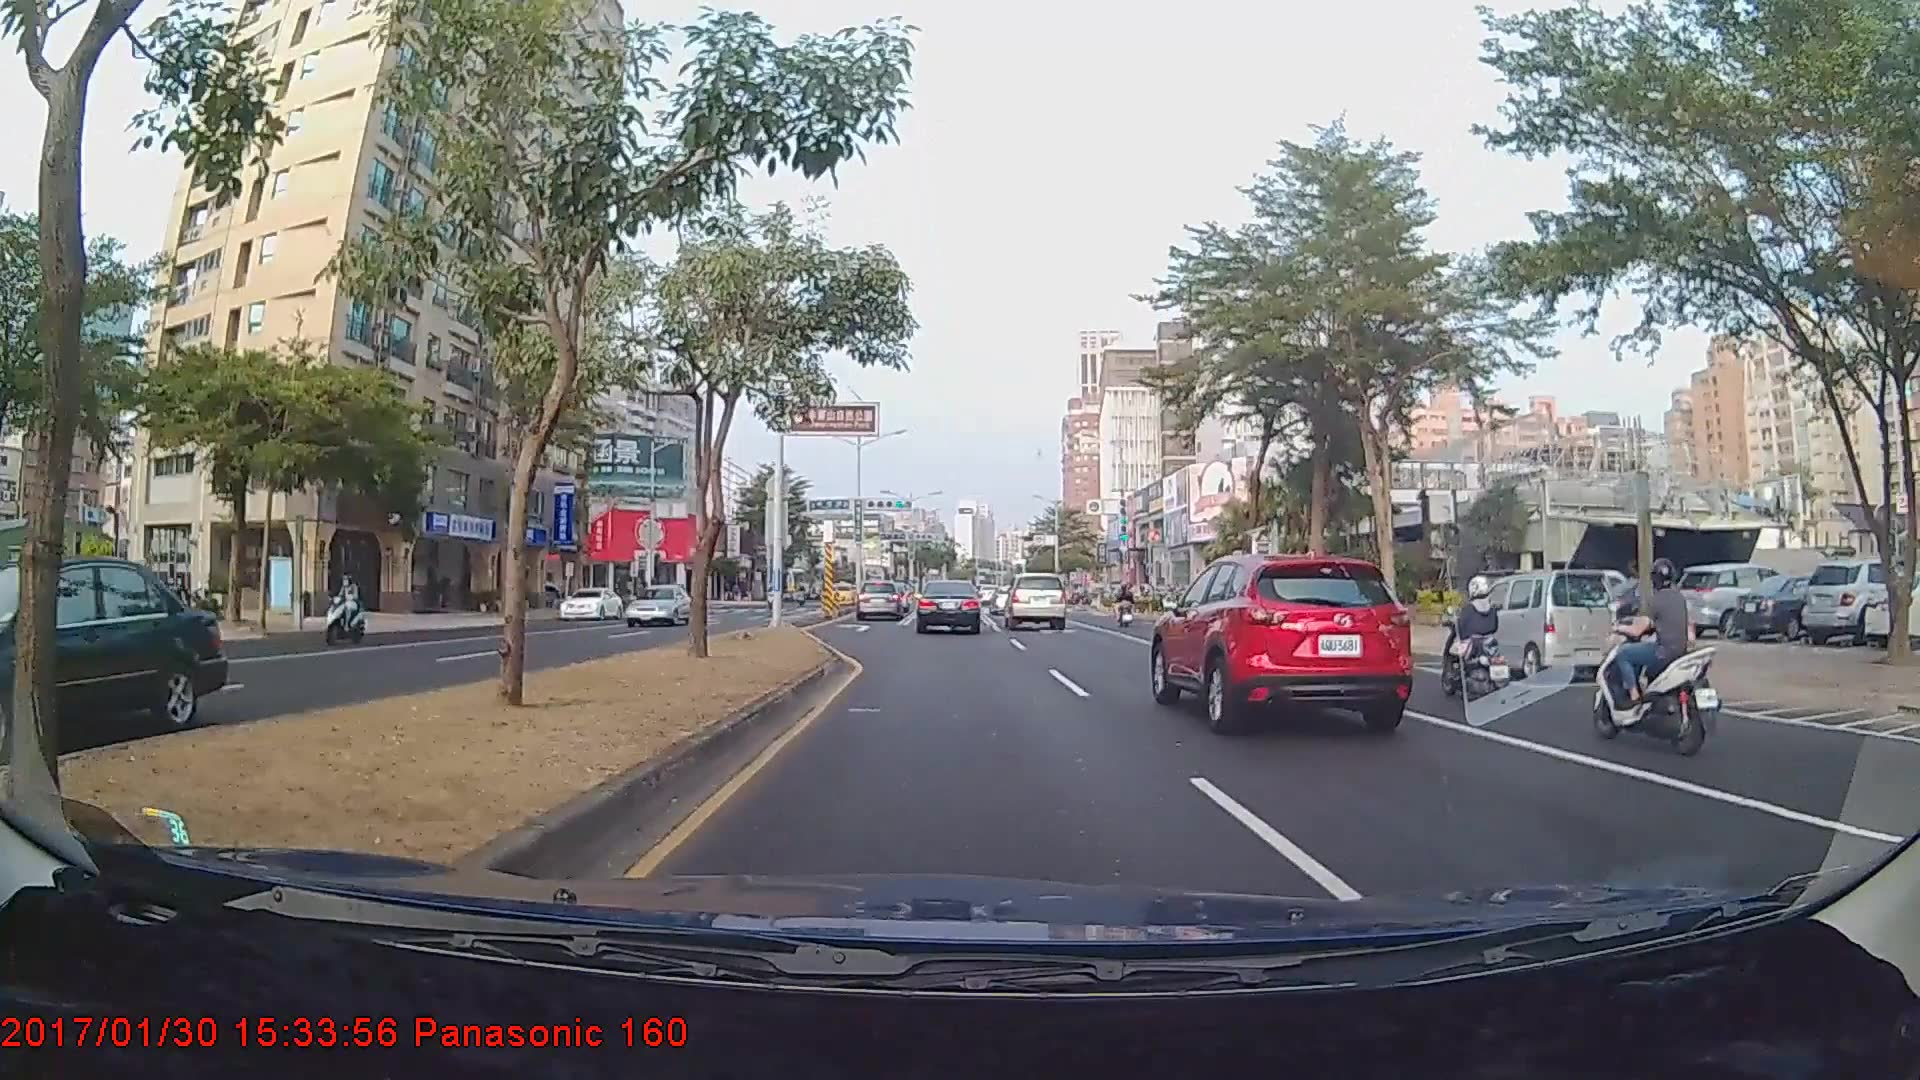rider: (1582, 554, 1724, 753), (1430, 572, 1528, 713), (320, 571, 370, 645), (1117, 588, 1140, 631)
vehicle: (1151, 546, 1413, 727), (0, 554, 230, 748), (1456, 567, 1620, 683), (1670, 563, 1797, 636), (1003, 572, 1067, 630), (916, 579, 981, 634), (623, 583, 693, 625), (853, 578, 909, 622), (558, 585, 623, 618)
